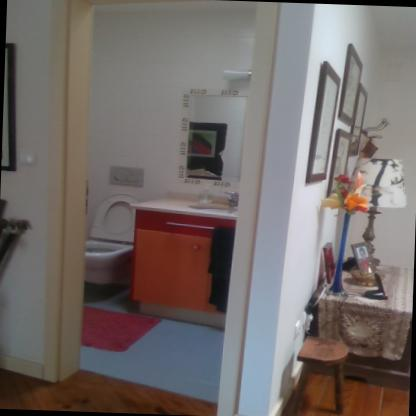open: (34, 0, 280, 415)
